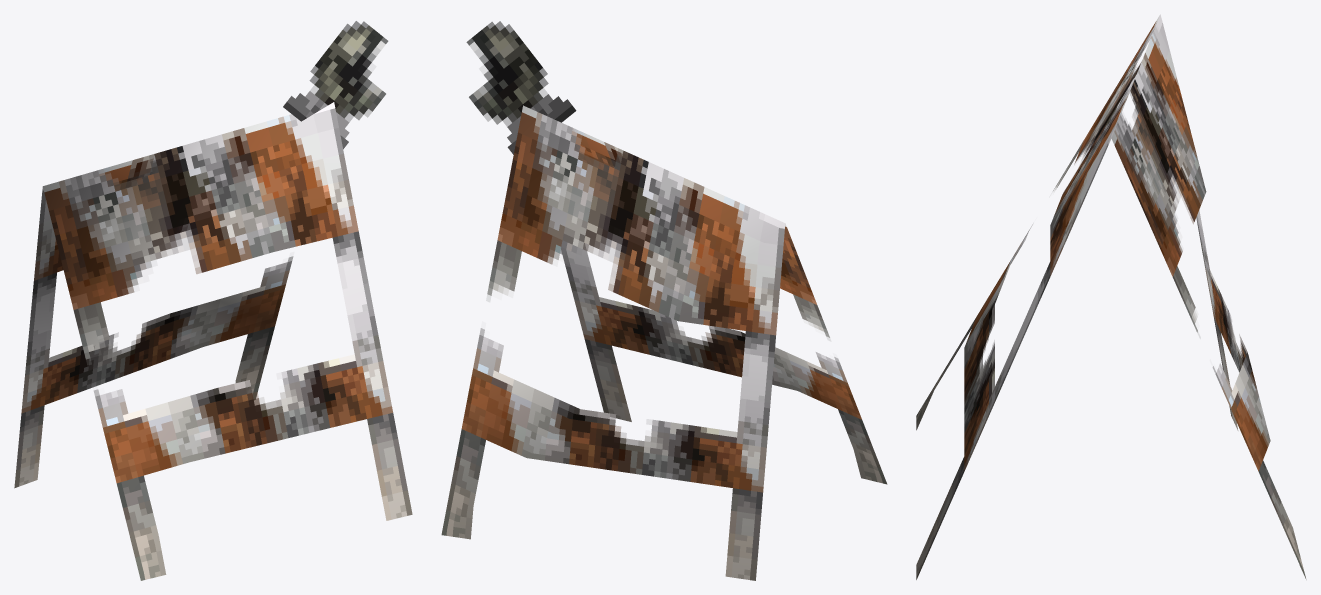
Rendered from Environment - Prop - Construction Barricade - Damaged - PMBarrcde_d.glb.
The picture shows the model from 3 angles, left to right: view 1: azimuth 30°, elevation 25°; view 2: azimuth 150°, elevation 25°; view 3: azimuth 270°, elevation 25°; orthographic projection. The views are drawn at different scales.
Visible parts, largest first — view 1: PMBARRCDE_D; view 2: PMBARRCDE_D; view 3: PMBARRCDE_D.
Boxes of the visible parts, x1=… form: PMBARRCDE_D: x1=14, y1=21, x2=412, y2=580; PMBARRCDE_D: x1=441, y1=21, x2=887, y2=580; PMBARRCDE_D: x1=916, y1=14, x2=1306, y2=579.
Bounding box in the file's own units: 8.45 × 10.11 × 6.56.
Materials: 1 (1 with a texture image).
